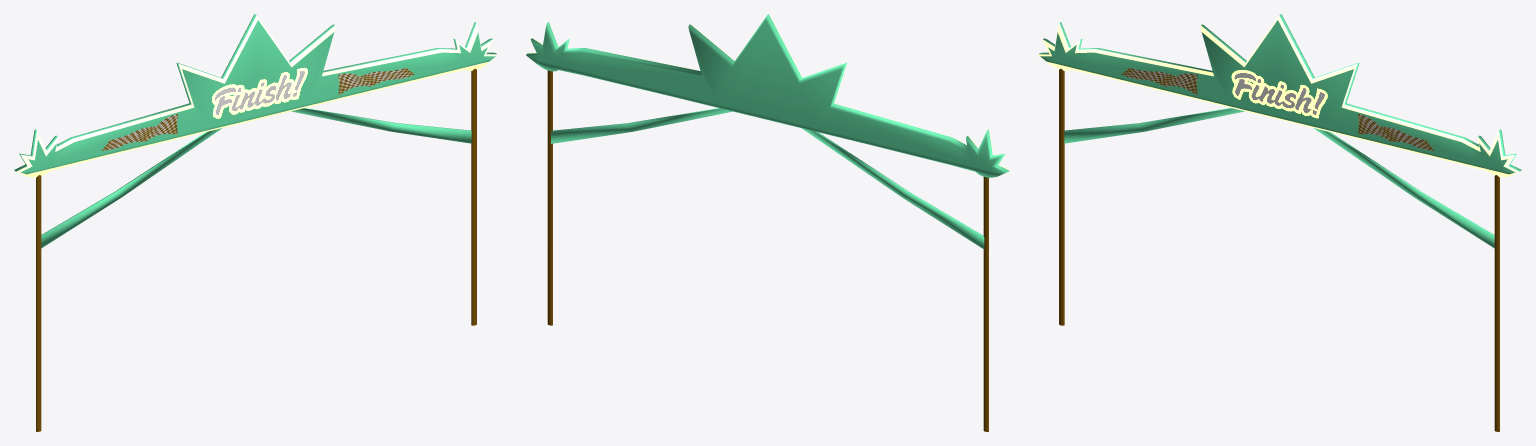
File: meta.fbx
3 views of the same model, side by side, from view 1: azimuth 30°, elevation 25°; view 2: azimuth 150°, elevation 25°; view 3: azimuth 330°, elevation 25° (orthographic).
Parts seen in each view (by area): view 1: Cylinder.001, Cylinder.002; view 2: Cylinder.001, Cylinder.002; view 3: Cylinder.001, Cylinder.002.
Part boxes in pixels (x1,y1,x2,y2): Cylinder.001: (14, 14, 497, 248); Cylinder.002: (36, 68, 476, 431); Cylinder.001: (526, 14, 1009, 249); Cylinder.002: (547, 70, 988, 431); Cylinder.001: (1038, 14, 1521, 248); Cylinder.002: (1059, 68, 1499, 431).
Bounding box in the file's own units: 9.65 × 6.96 × 0.15.
